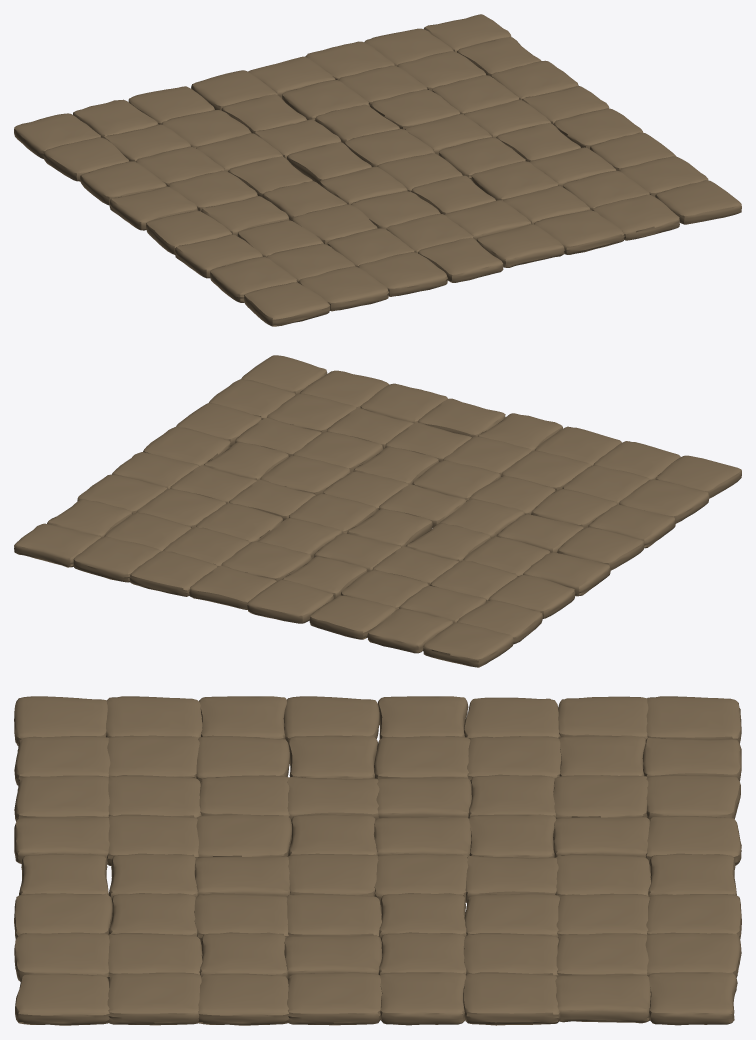
Rendered from GeometryNodeFloor2.2024.06.17.fbx.
3 views of the same model, one above another, from view 1: azimuth 30°, elevation 25°; view 2: azimuth 150°, elevation 25°; view 3: azimuth 270°, elevation 25° (orthographic). The views are drawn at different scales.
Visible parts, largest first — view 1: Plane; view 2: Plane; view 3: Plane.
Part boxes in pixels (left/top/right/bottom): Plane: left=14, top=14, right=741, bottom=326; Plane: left=14, top=355, right=741, bottom=667; Plane: left=14, top=696, right=741, bottom=1025.
Bounding box in the file's own units: 15.2 × 0.4301 × 14.69.
